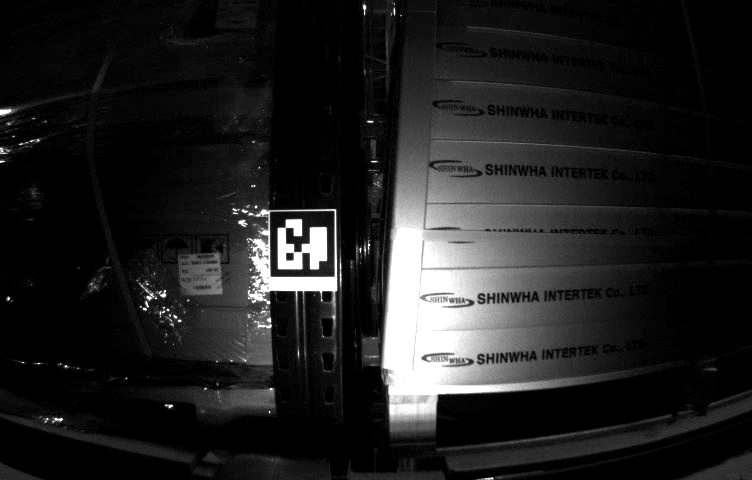True Barcode: (175, 251, 225, 295)
